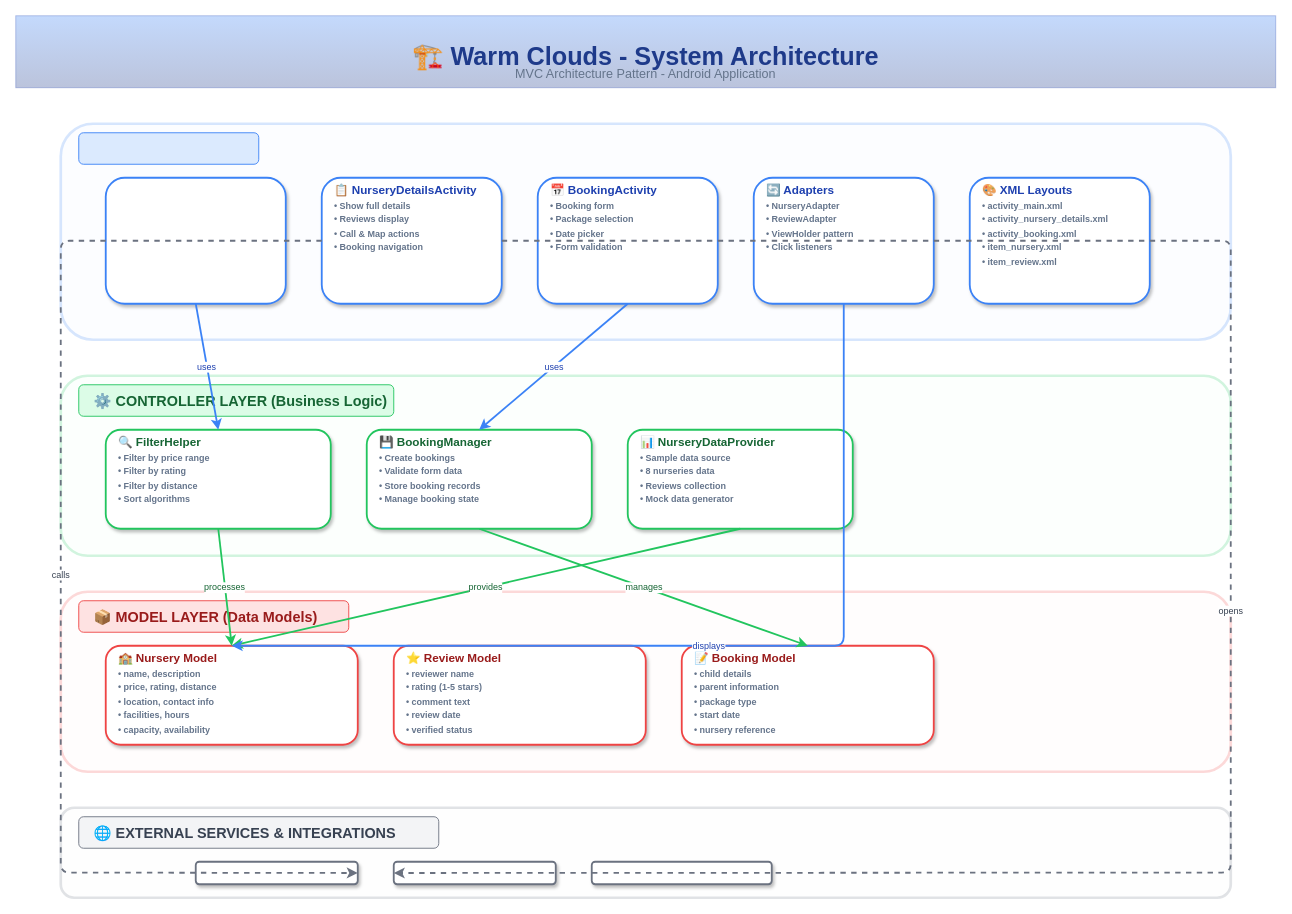
Image size: 1292x914. Some labels were removed from this diagram. Each missing label, with the centre of its shape:
"🏠 MainActivity • Search nurseries • Filter & Sort • Display list • RecyclerView" goes at pixel 196 241.
"📞 Phone Dialer ACTION_DIAL Intent" goes at pixel 277 874.
"📱 VIEW LAYER" goes at pixel 168 148.
"🔐 Permissions INTERNET • CALL_PHONE • LOCATION" goes at pixel 682 874.
"🗺️ Google Maps Location View Intent" goes at pixel 475 874.
